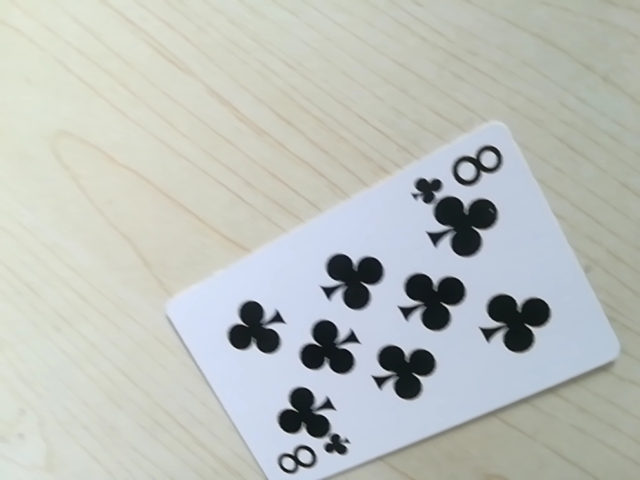mh 8: (419, 141, 508, 196), (268, 434, 349, 479)
